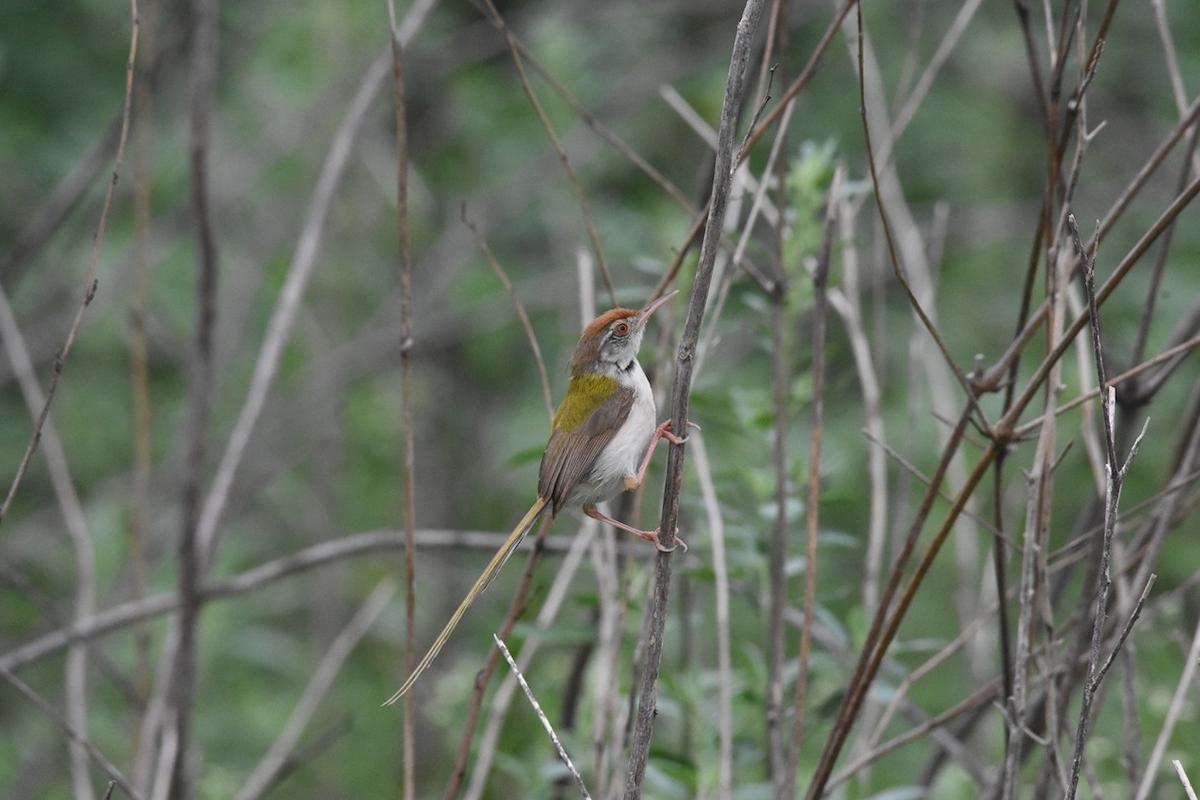tailorbird: (431, 230, 745, 684)
